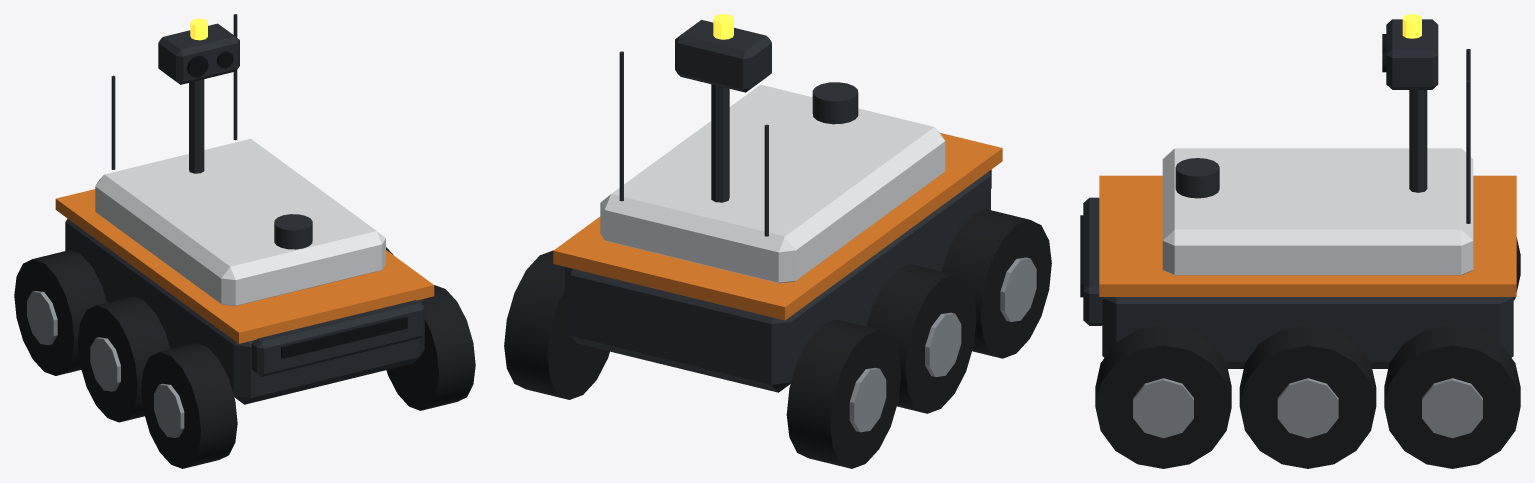
The model's file is ugv.glb.
The picture shows the model from 3 angles, left to right: view 1: azimuth 30°, elevation 25°; view 2: azimuth 150°, elevation 25°; view 3: azimuth 270°, elevation 25°; orthographic projection. The views are drawn at different scales.
Parts seen in each view (by area): view 1: ugv__ugv_panel, ugv__tyre, ugv__ugv_graphite, ugv__ugv_accent, ugv__steel, ugv__lens; view 2: ugv__ugv_panel, ugv__tyre, ugv__ugv_graphite, ugv__ugv_accent, ugv__steel; view 3: ugv__tyre, ugv__ugv_panel, ugv__ugv_graphite, ugv__ugv_accent, ugv__steel, ugv__lens, ugv__beacon_amber.
Boxes of the visible parts, x1,y1,x2,y2 form: ugv__ugv_panel: (95,138,385,305); ugv__tyre: (14,247,475,468); ugv__ugv_graphite: (65,14,424,404); ugv__ugv_accent: (55,189,434,343); ugv__steel: (27,291,184,437); ugv__lens: (187,51,407,358); ugv__ugv_panel: (600,84,945,283); ugv__tyre: (504,209,1051,468); ugv__ugv_graphite: (565,20,991,392); ugv__ugv_accent: (553,133,1002,320); ugv__steel: (849,257,1036,432); ugv__tyre: (1095,237,1520,468); ugv__ugv_panel: (1162,148,1473,275); ugv__ugv_graphite: (1083,19,1513,368); ugv__ugv_accent: (1099,175,1516,296); ugv__steel: (1133,378,1482,438); ugv__lens: (1080,34,1386,297); ugv__beacon_amber: (1402,14,1421,38).
Bounding box in the file's own units: 1.85 × 2.06 × 2.2.
